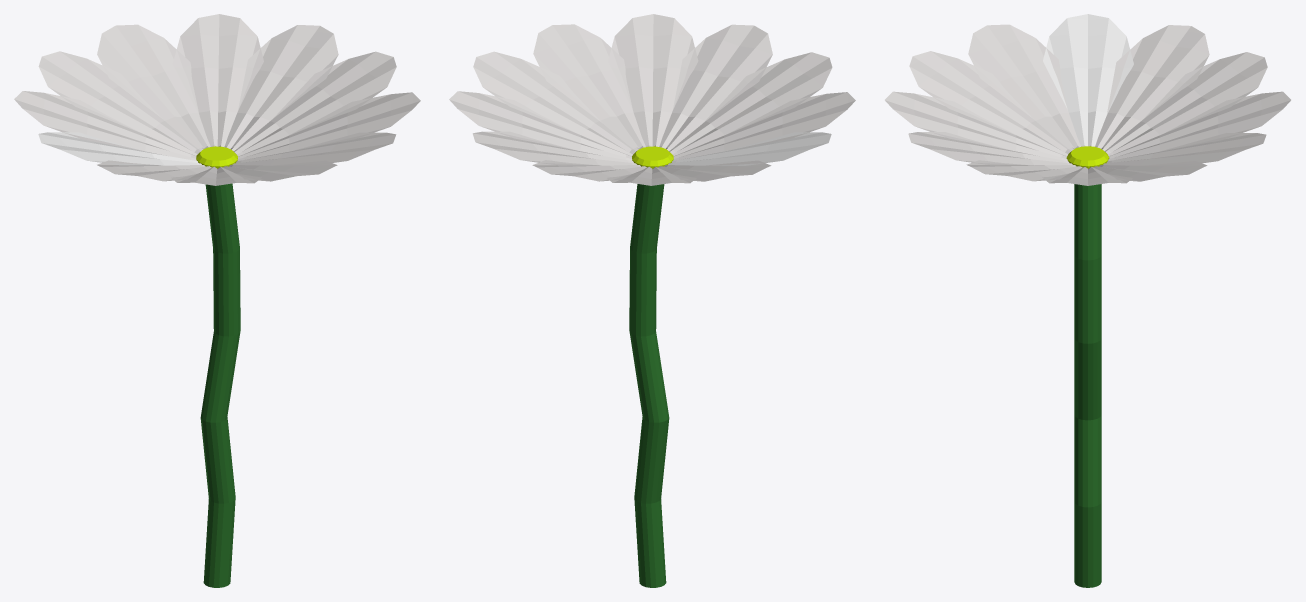
Rendered from daisy.fbx.
3 renders of one model, left to right at view 1: azimuth 30°, elevation 25°; view 2: azimuth 150°, elevation 25°; view 3: azimuth 270°, elevation 25°, orthographic.
Visible parts, largest first — view 1: Circle.009, Circle.013, Circle.012; view 2: Circle.009, Circle.013, Circle.012; view 3: Circle.009, Circle.013, Circle.012.
Part boxes in pixels (left/top/right/bottom): Circle.009: left=14, top=14, right=420, bottom=185; Circle.013: left=200, top=183, right=240, bottom=587; Circle.012: left=196, top=146, right=237, bottom=168; Circle.009: left=449, top=14, right=855, bottom=185; Circle.013: left=629, top=184, right=669, bottom=587; Circle.012: left=632, top=146, right=673, bottom=168; Circle.009: left=885, top=14, right=1290, bottom=185; Circle.013: left=1074, top=184, right=1101, bottom=587; Circle.012: left=1066, top=146, right=1109, bottom=168.
Size of the model in its own units: 51.92 by 67.89 by 51.92.
